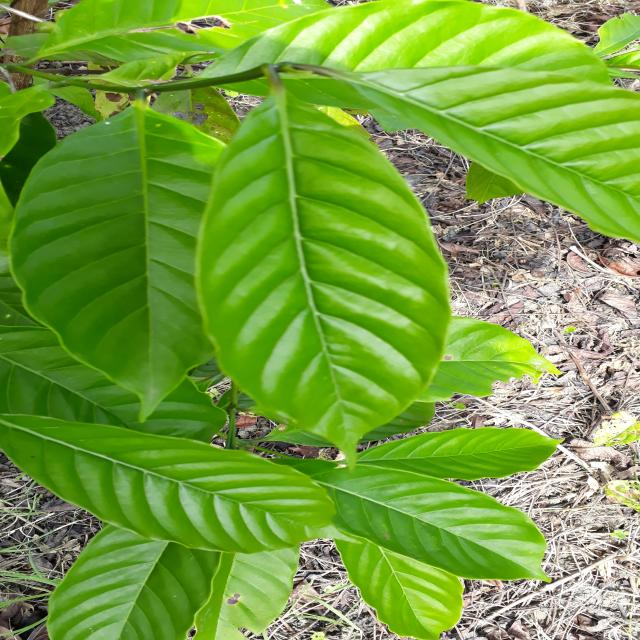Sanas: (193, 83, 454, 462)
